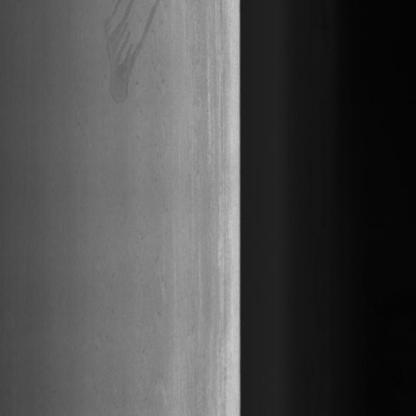water_spot: (90, 0, 167, 109)
